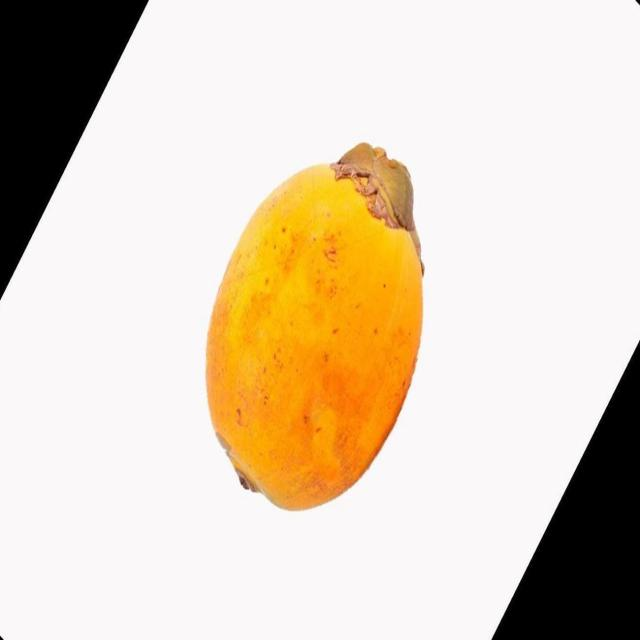good: (204, 143, 425, 515)
